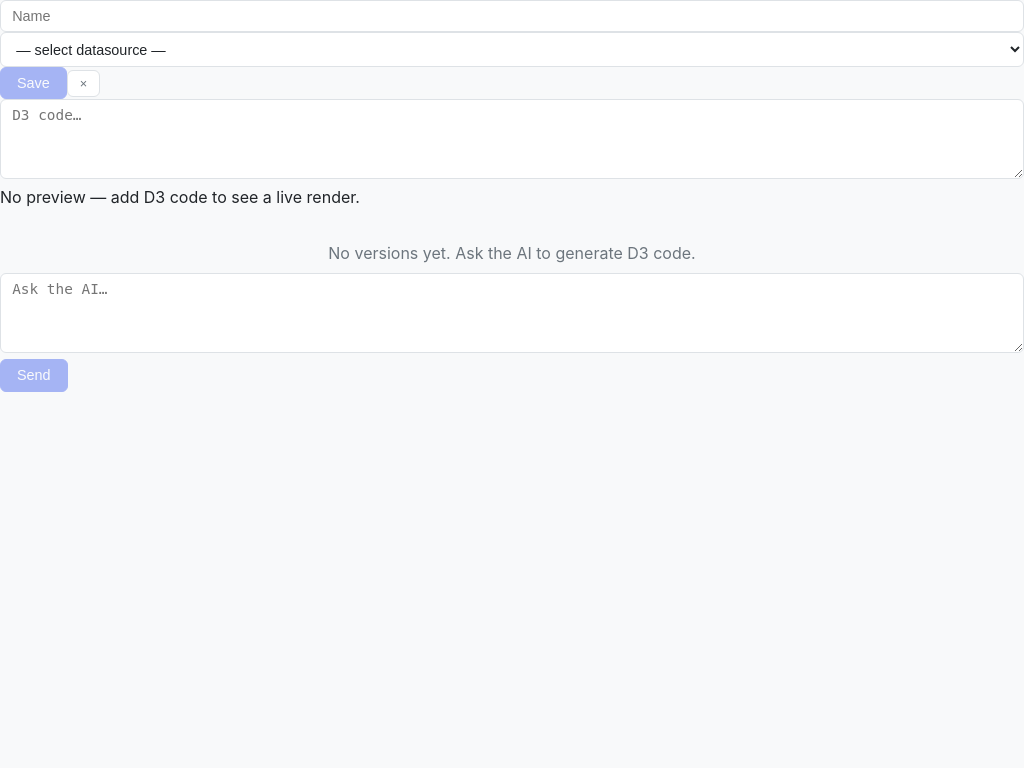
Test: ChartDialog › should show Thinking spinner while chat loading
Check: the dialog is shown, box [0, 0, 1023, 392]
Type "hi" into the text box with placeholder "Ask the AI…".
click(512, 313); type("hi")  # box [0, 273, 1023, 353]
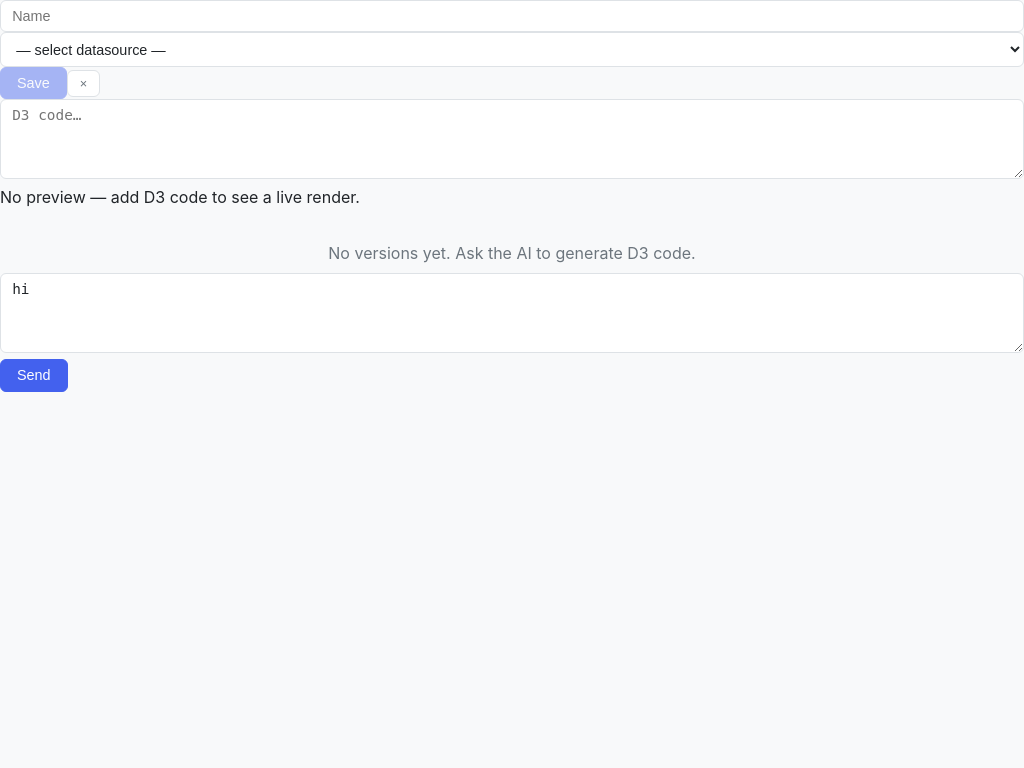
Click the button "Send".
click(34, 375)  # box [0, 359, 68, 392]
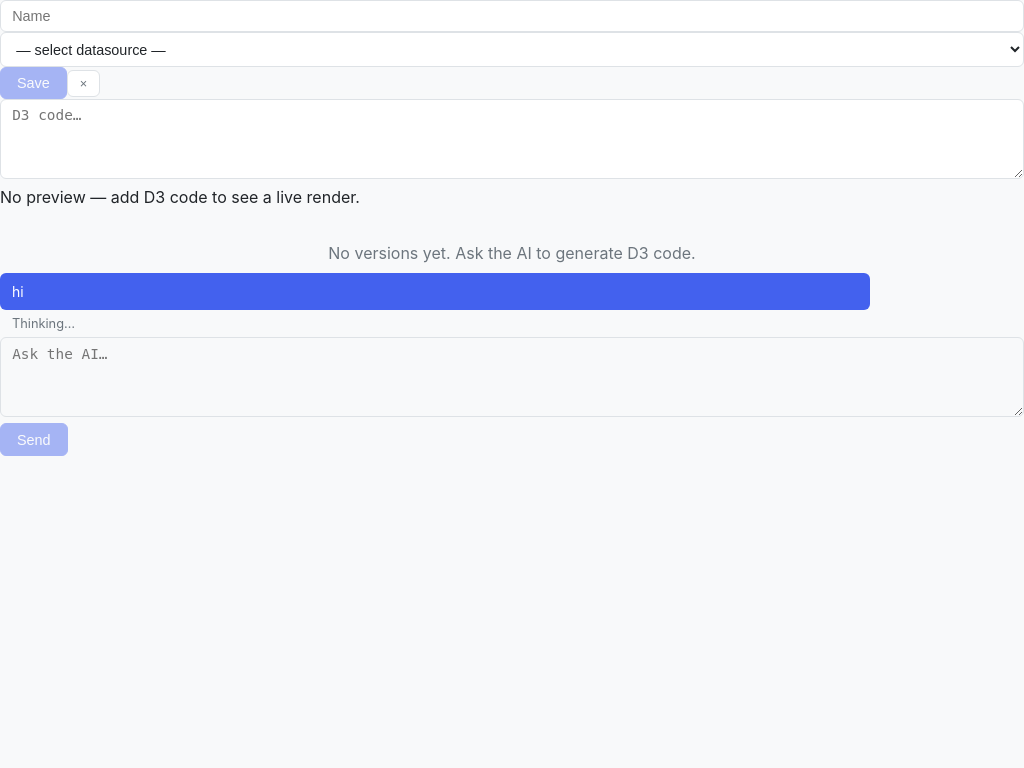
Check: the text "Thinking…" is shown, box [12, 316, 75, 331]
